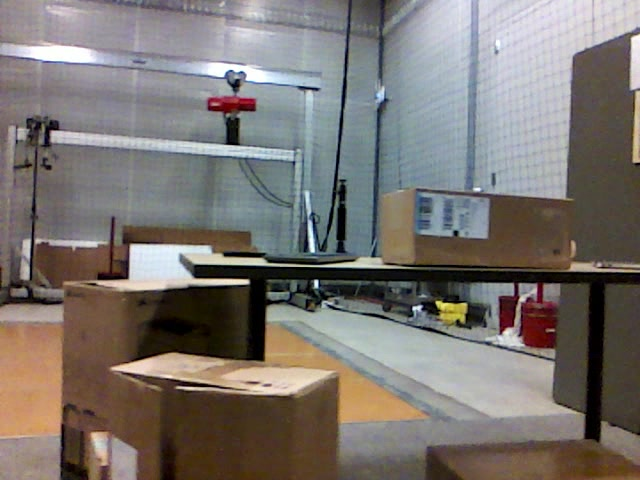box: (63, 280, 264, 480), (107, 353, 340, 480), (382, 190, 571, 269), (427, 439, 640, 480)
